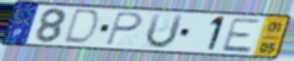1: (206, 15, 228, 54)
8: (33, 7, 68, 44)
D: (61, 8, 103, 47)
E: (219, 16, 263, 54)
P: (104, 10, 145, 47)
U: (143, 12, 186, 50)
